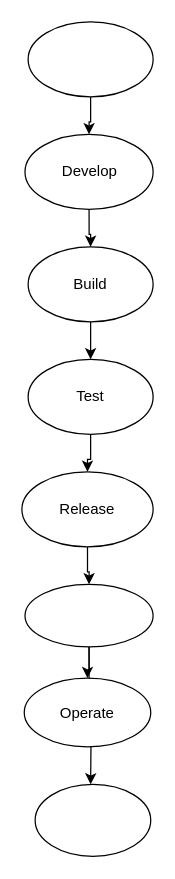
Image size: 175x879. Some labels were removed from this diagram. Each missing label, with the centre of its shape:
"Deploy" belongs at point (88, 615).
"plane" belongs at point (90, 59).
